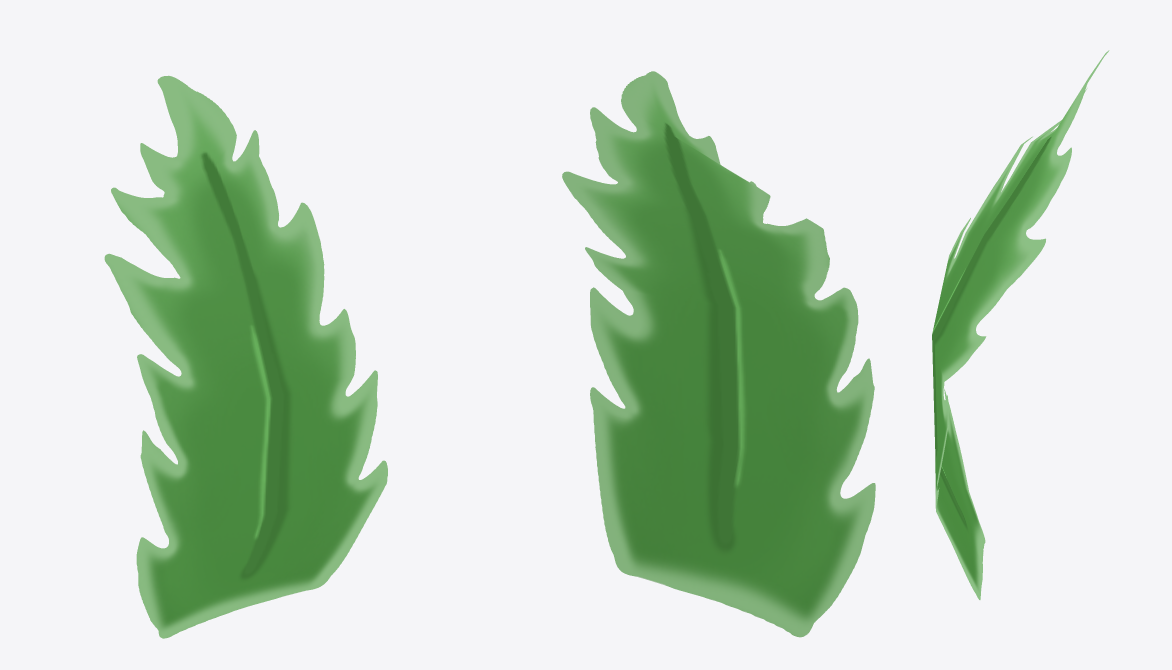
Rendered from HojaG_1.fbx.
3 views of the same model, side by side, from view 1: azimuth 30°, elevation 25°; view 2: azimuth 150°, elevation 25°; view 3: azimuth 270°, elevation 25° (orthographic). The views are drawn at different scales.
Visible parts, largest first — view 1: HojaG_1; view 2: HojaG_1; view 3: HojaG_1.
Boxes of the visible parts, x1,y1,x2,y2 form: HojaG_1: [104, 75, 387, 638]; HojaG_1: [562, 71, 875, 637]; HojaG_1: [932, 50, 1109, 599].
Bounding box in the file's own units: 117 × 199 × 75.38.
